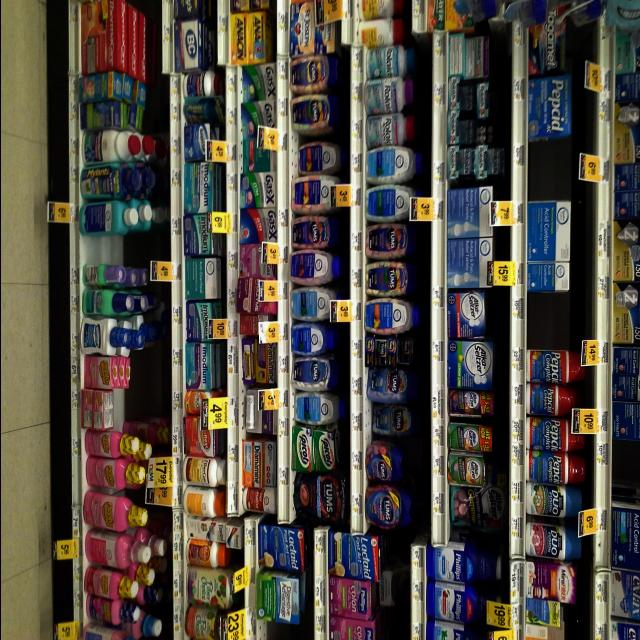empty_space: (523, 294, 585, 352), (526, 141, 582, 203), (128, 348, 168, 417), (82, 238, 150, 266)
